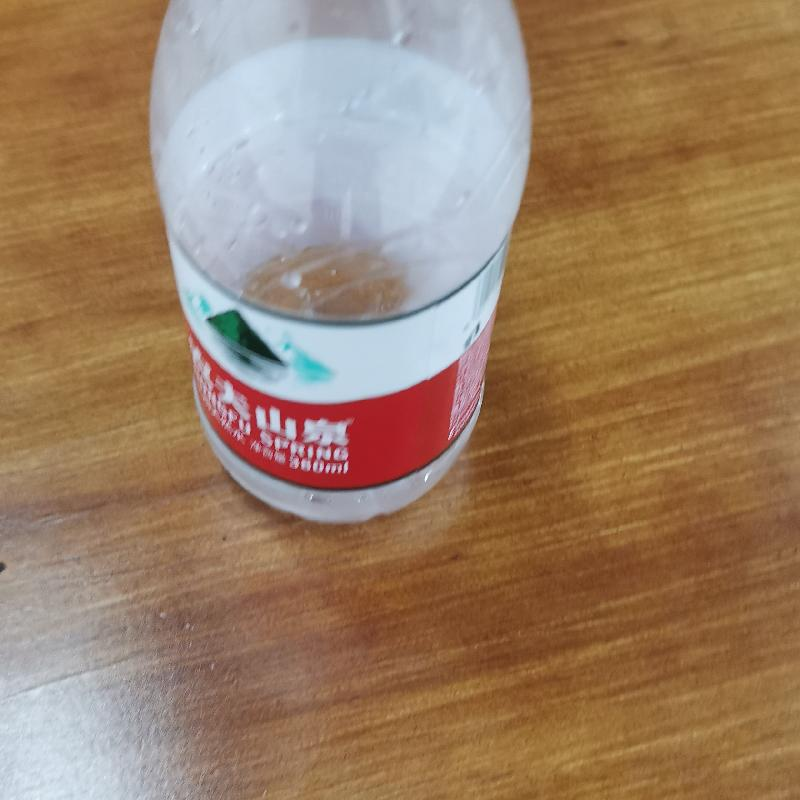bottles: (154, 6, 536, 529)
